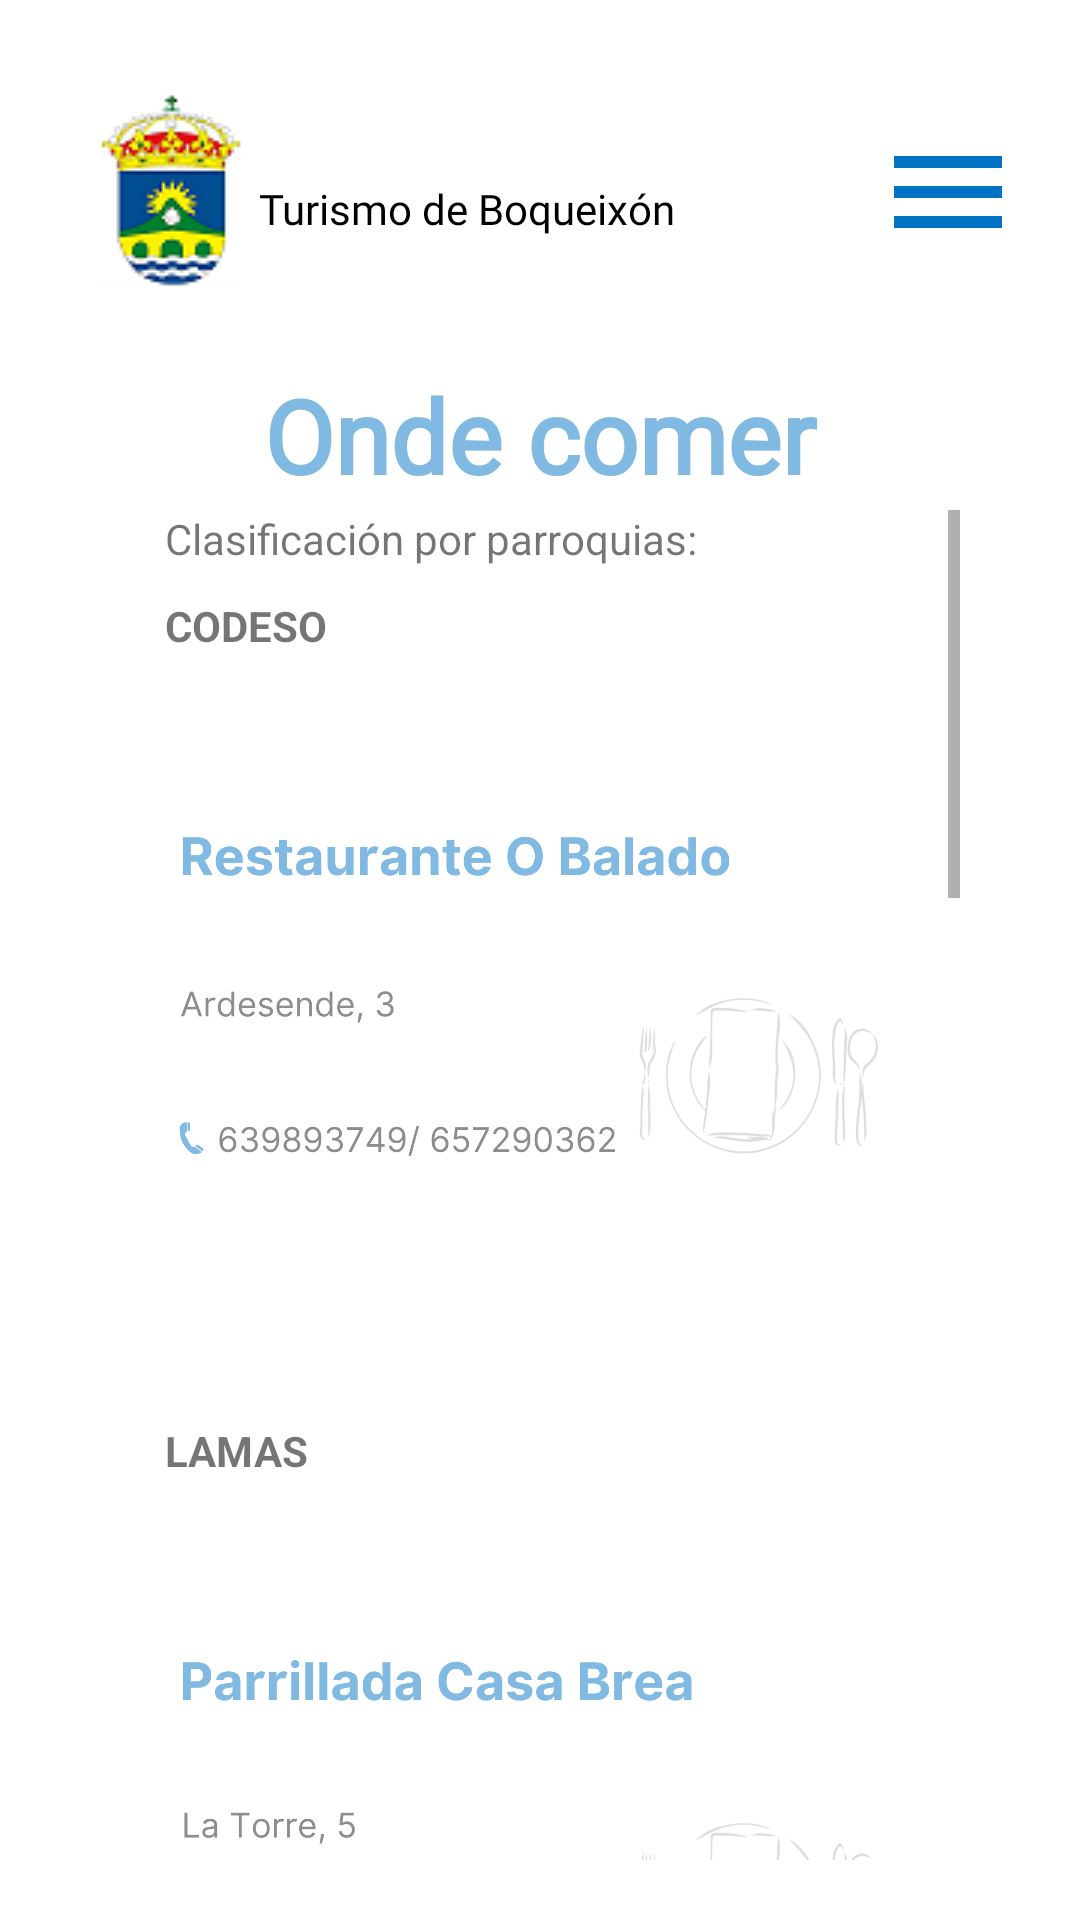

Where to tap for icons on this 1080 × 1920 app screen, as [x,y]:
hamburguesa: [948,192]
